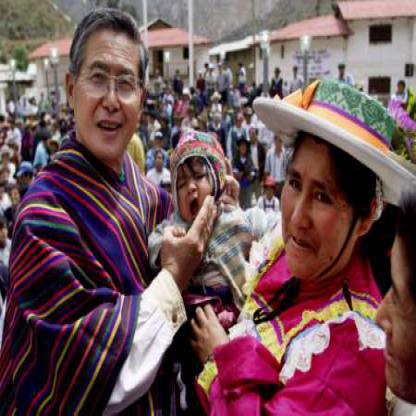face: (281, 98, 361, 286), (74, 9, 145, 160), (172, 144, 218, 230)
